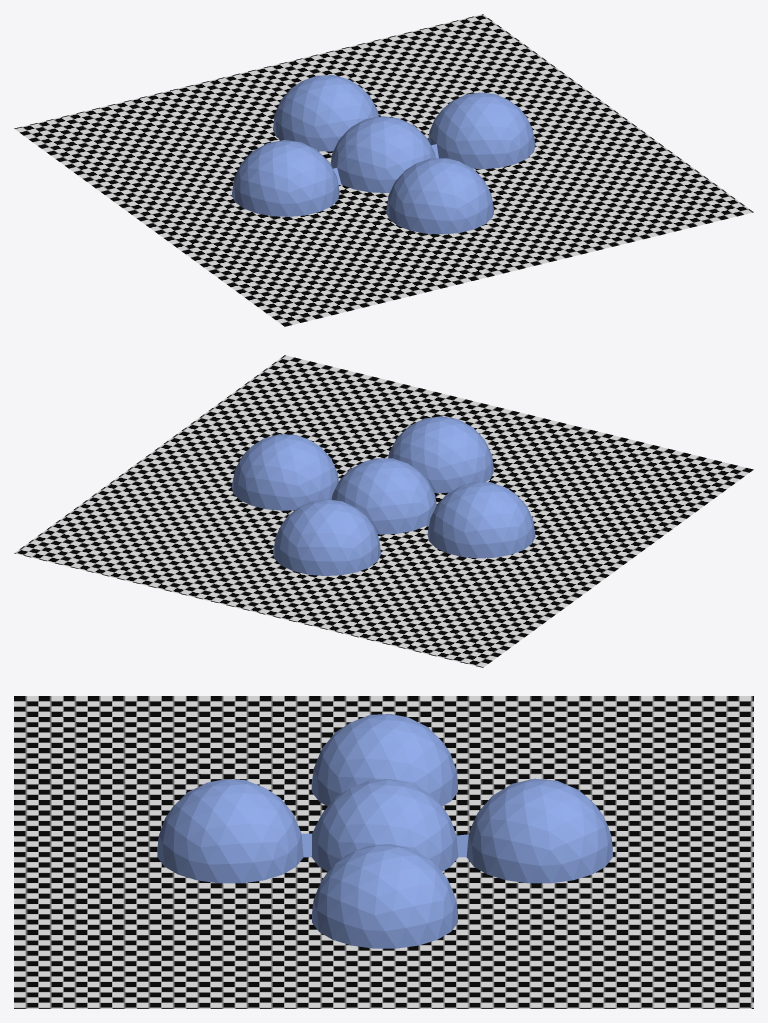
File: blender_test.gltf
The picture shows the model from 3 angles, top to bottom: view 1: azimuth 30°, elevation 25°; view 2: azimuth 150°, elevation 25°; view 3: azimuth 270°, elevation 25°; orthographic projection. The views are drawn at different scales.
Visible parts, largest first — view 1: Plane, Icosphere.001; view 2: Plane, Icosphere.001; view 3: Plane, Icosphere.001.
Part boxes in pixels (<box>): Plane: <box>14,14,753,326</box>; Icosphere.001: <box>231,75,535,234</box>; Plane: <box>14,355,753,667</box>; Icosphere.001: <box>231,416,535,575</box>; Plane: <box>14,696,753,1008</box>; Icosphere.001: <box>157,714,612,948</box>.
Bounding box in the file's own units: 100 × 10.01 × 100.
Materials: 36 (1 with a texture image).
